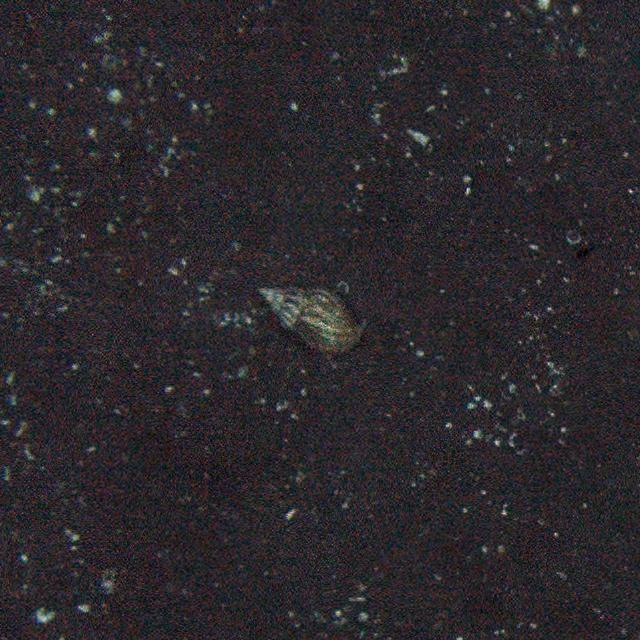whelk: (260, 284, 366, 355)
